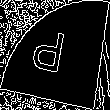P_S: (35, 27, 75, 83)
